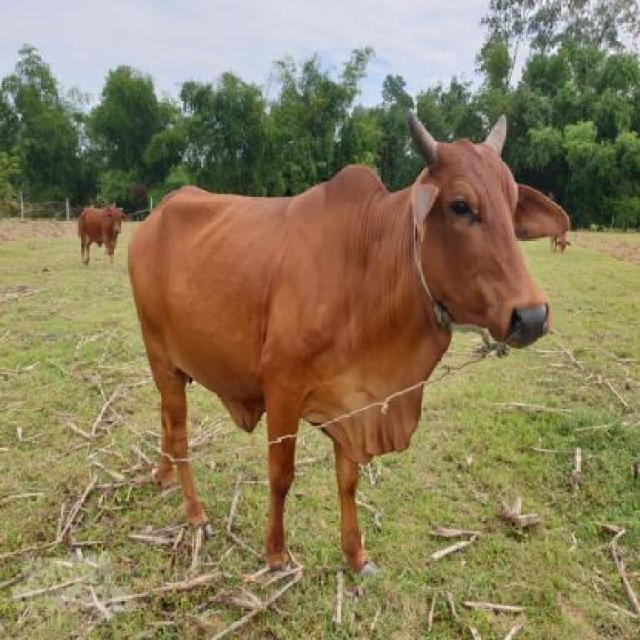Cow: (131, 103, 575, 571), (74, 203, 124, 266)
